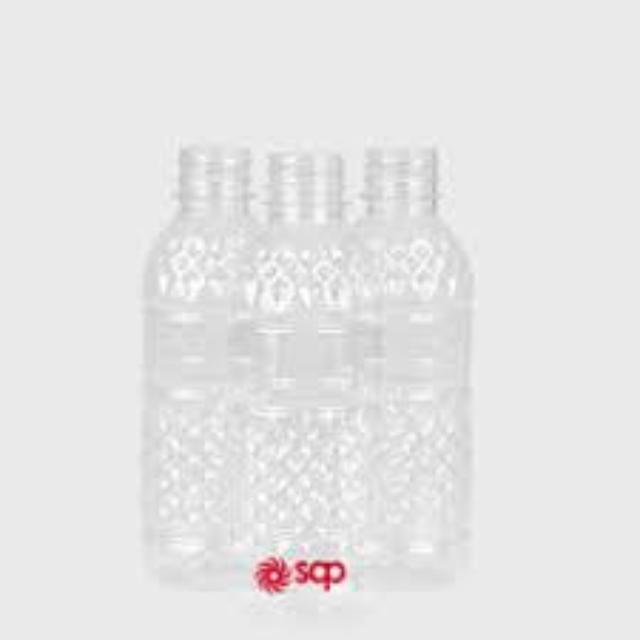trash: (337, 139, 481, 591), (234, 144, 368, 616), (140, 135, 258, 598)
